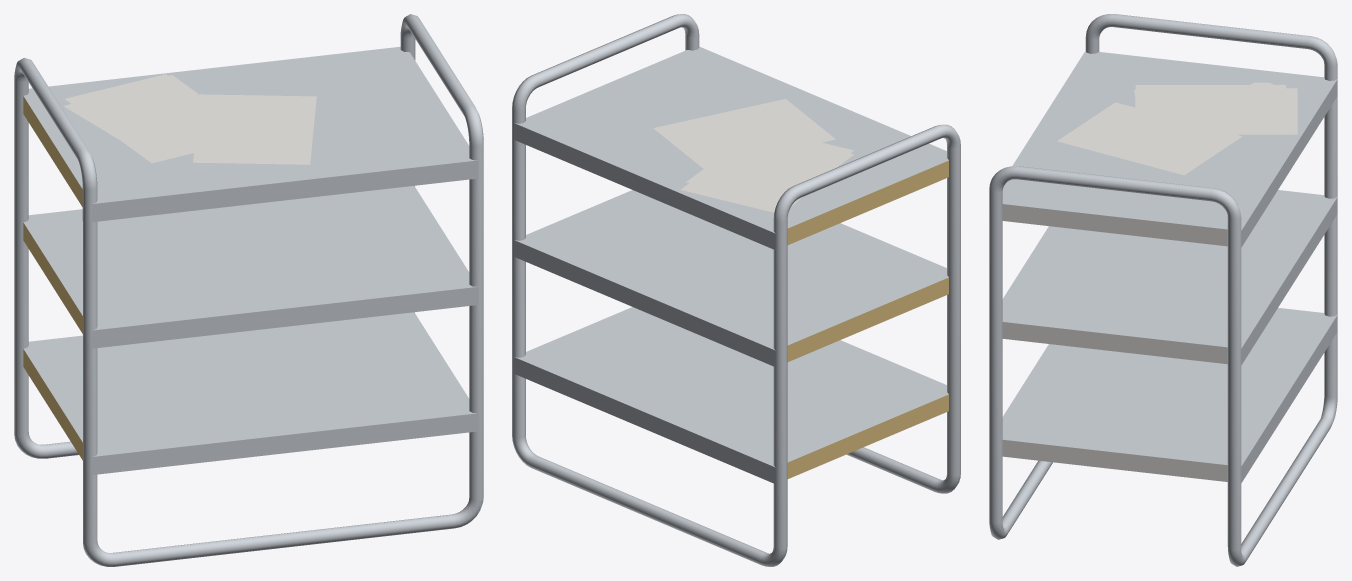
File: SM_Chariot.fbx
The picture shows the model from 3 angles, left to right: view 1: azimuth 30°, elevation 25°; view 2: azimuth 150°, elevation 25°; view 3: azimuth 270°, elevation 25°; orthographic projection. The views are drawn at different scales.
Visible parts, largest first — view 1: SM_Chariot; view 2: SM_Chariot; view 3: SM_Chariot.
Boxes of the visible parts, x1,y1,x2,y2 form: SM_Chariot: [14, 14, 483, 566]; SM_Chariot: [512, 14, 960, 566]; SM_Chariot: [989, 14, 1337, 566].
Bounding box in the file's own units: 84.13 × 81.15 × 67.03.
